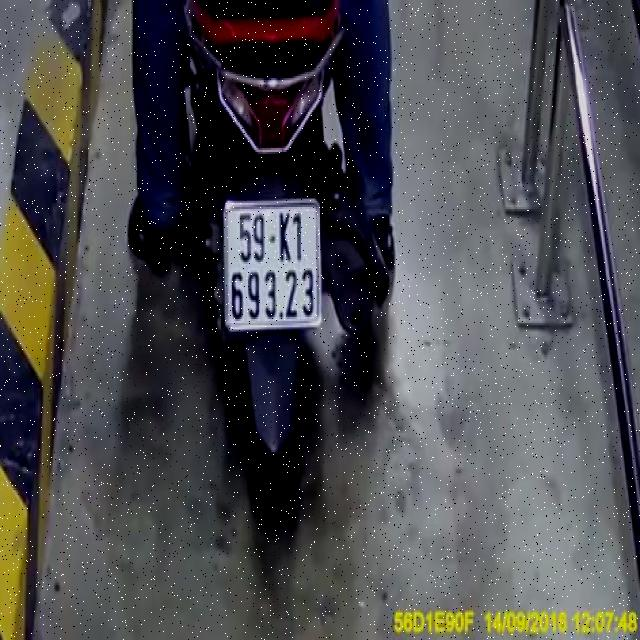1: (292, 211, 304, 263)
2: (282, 268, 299, 318)
3: (265, 268, 279, 322), (302, 268, 314, 317)
5: (238, 212, 252, 262)
6: (231, 272, 245, 321)
9: (245, 270, 261, 318), (254, 213, 266, 264)
K: (276, 209, 294, 264)
